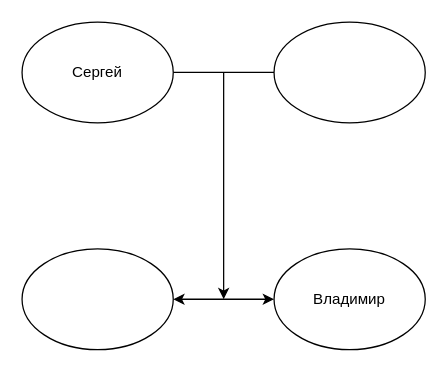
The diagram is 447 pixels wide and 372 high, and some of its shapes have lost their labels. Each missing label, with the centre of its shape:
Алексей: [97,299]
Елена: [349,72]
